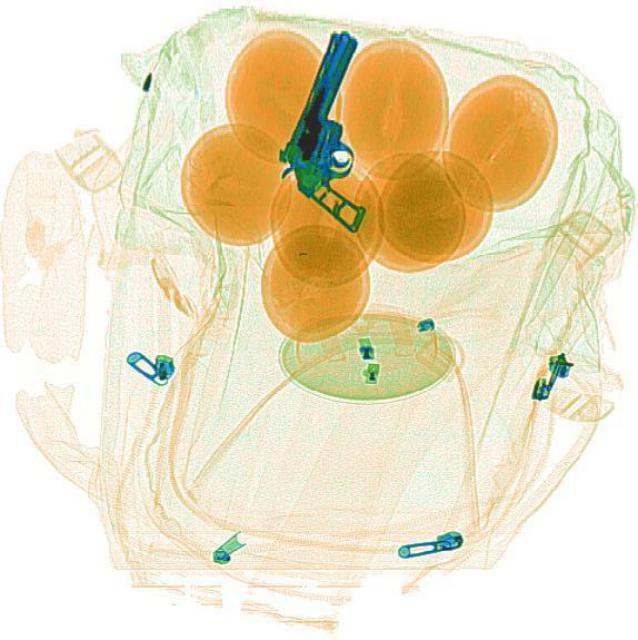Gun: (257, 24, 427, 230)
